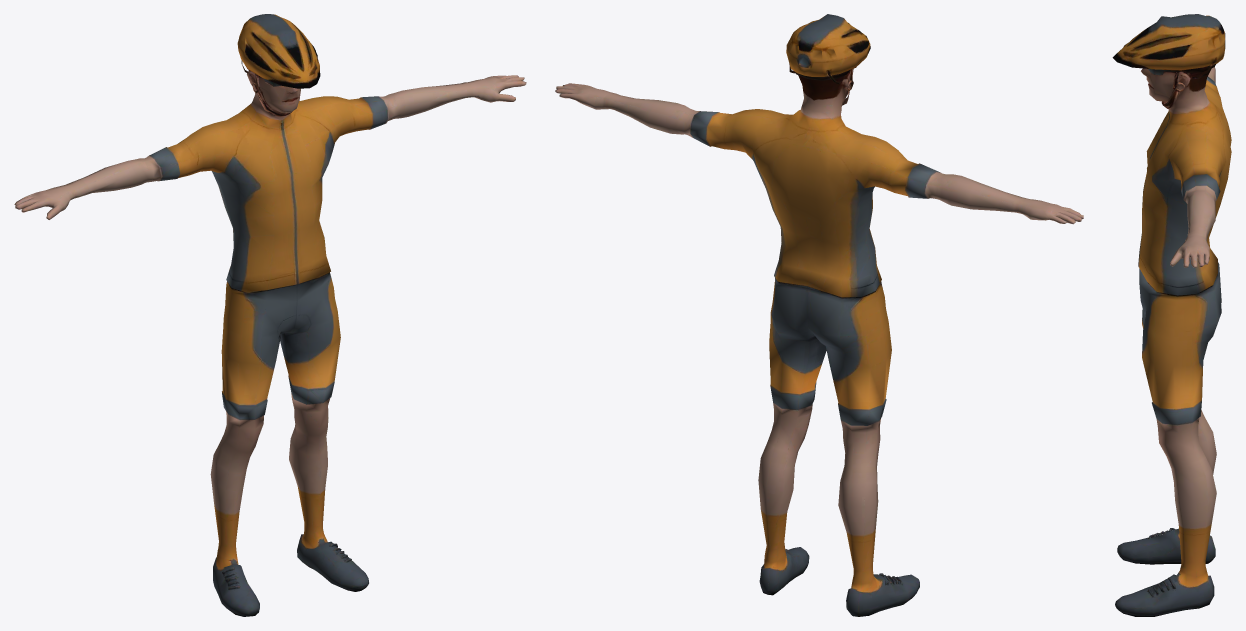
Rendered from rider.glb.
3 views of the same model, side by side, from view 1: azimuth 30°, elevation 25°; view 2: azimuth 150°, elevation 25°; view 3: azimuth 270°, elevation 25° (orthographic). The views are drawn at different scales.
Parts seen in each view (by area): view 1: Amber Aero Cyclist; view 2: Amber Aero Cyclist; view 3: Amber Aero Cyclist.
Part boxes in pixels (left/top/right/bottom): Amber Aero Cyclist: left=14, top=14, right=526, bottom=616; Amber Aero Cyclist: left=555, top=14, right=1083, bottom=616; Amber Aero Cyclist: left=1112, top=14, right=1231, bottom=616.
Bounding box in the file's own units: 0.9472 × 0.998 × 0.1895.
Materials: 1 (1 with a texture image).
